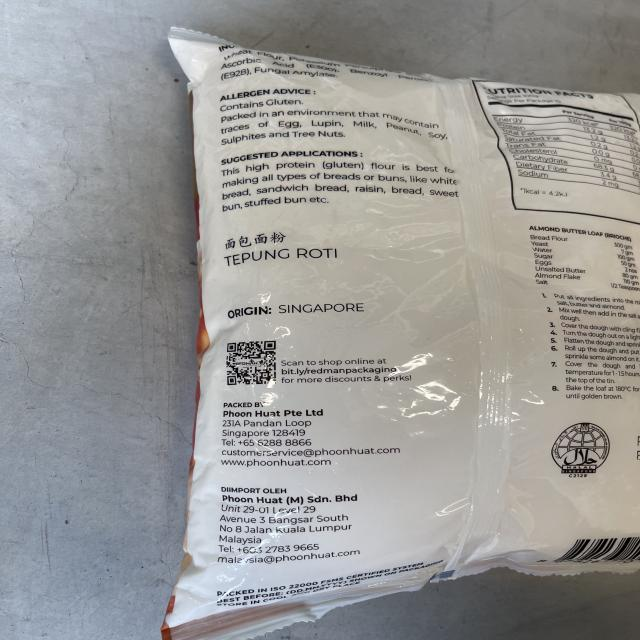object_name: (195, 46, 639, 584)
